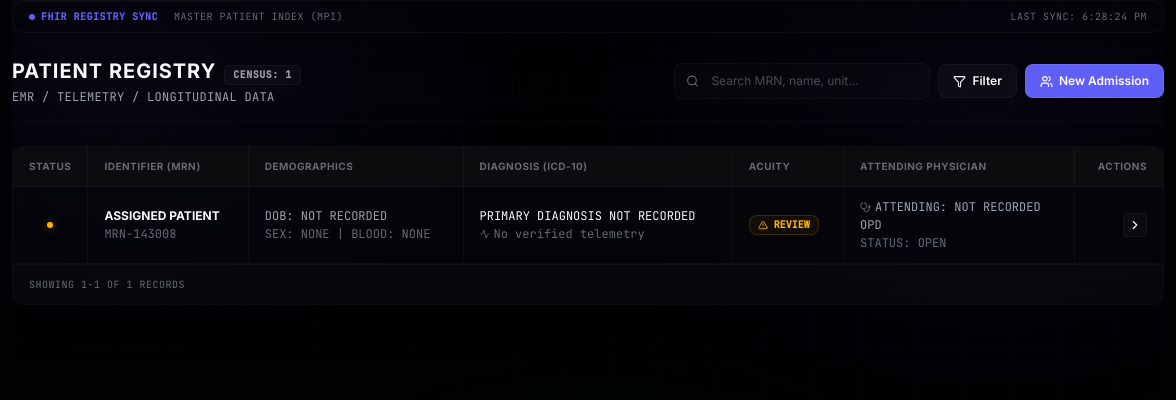
it: PatientsPage registry filtering › filters patient registry rows by risk level
Expected: the text "Assigned Patient" is shown, [104,208,232,224]
Click the button with aria-label "Filter patients": {"x": 978, "y": 81} [938,64,1017,98]
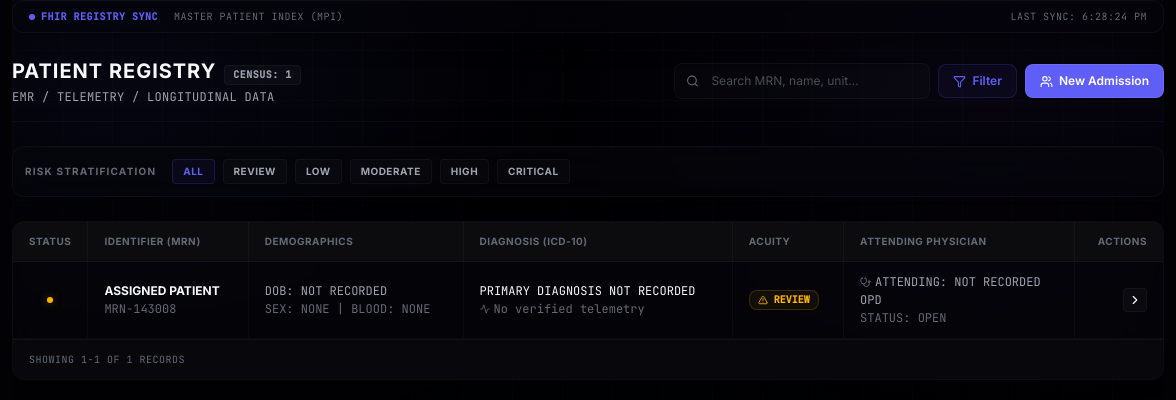
Click the button "HIGH": {"x": 464, "y": 172} [440,159,489,184]
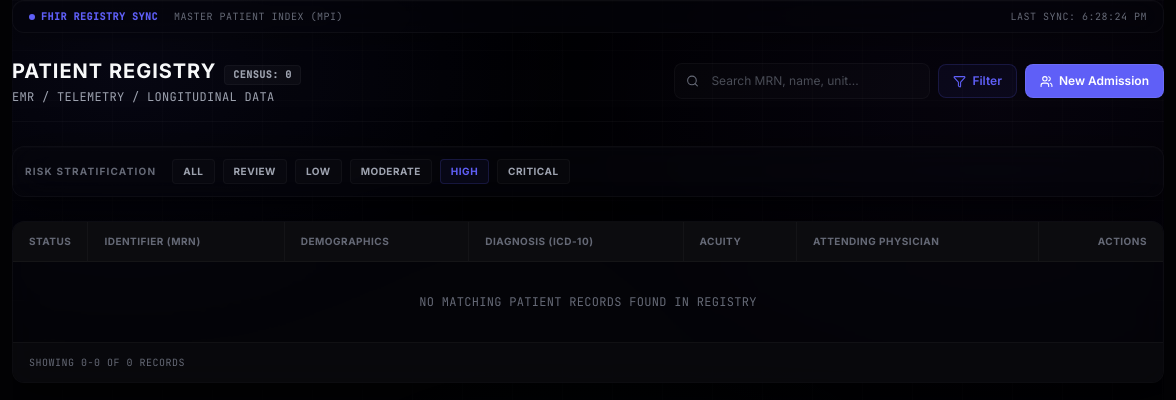
Now the text "Assigned Patient" is gone
Now the text "No matching patient records found in registry" is shown, box [13,262,1163,342]
Now the text "Census: 0" is shown, box [224,65,301,85]
Click the button "REVIEW": {"x": 255, "y": 172} [222,159,287,184]
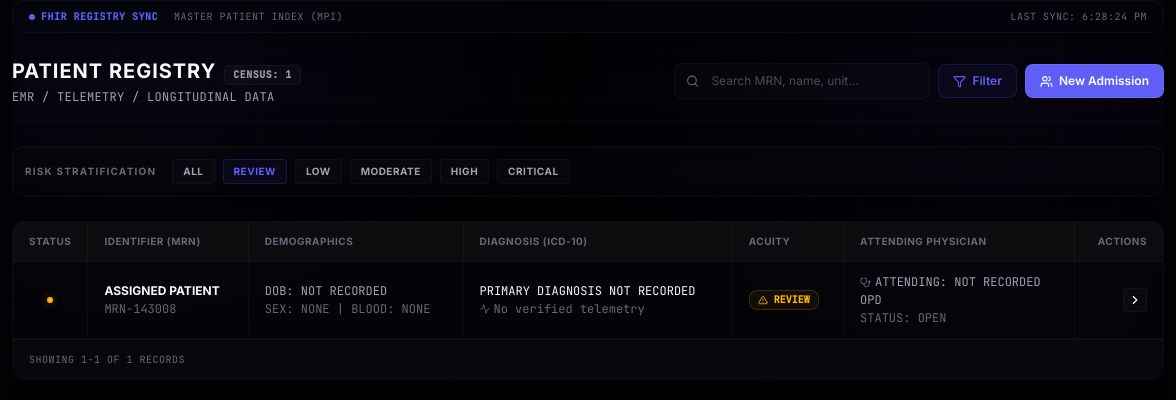
Now the text "Assigned Patient" is shown, box [104,283,232,299]
Now the text "Census: 1" is shown, box [224,65,301,85]
